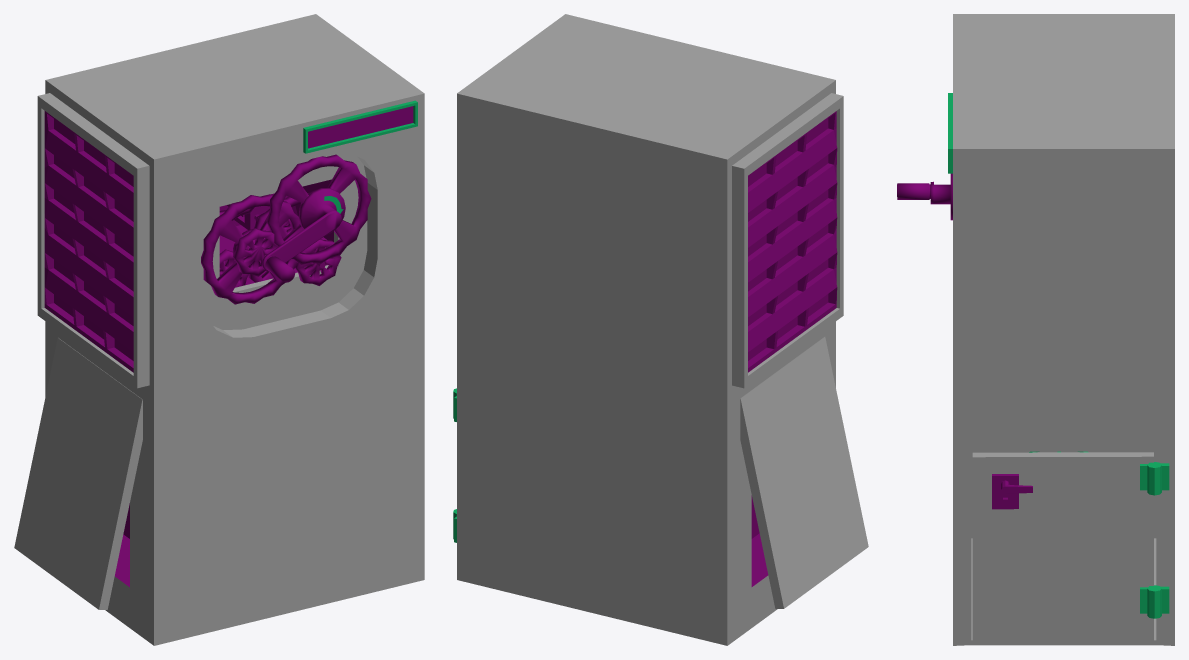
The model's file is generator_full.fbx.
The picture shows the model from 3 angles, left to right: view 1: azimuth 30°, elevation 25°; view 2: azimuth 150°, elevation 25°; view 3: azimuth 270°, elevation 25°; orthographic projection. The views are drawn at different scales.
Visible parts, largest first — view 1: Cube.008, Cube.012, Plane.022, Cylinder.008, Cylinder.009, Cube.010, Cylinder.003, Cylinder.007, Cylinder.002; view 2: Cube.008, Cube.012, Plane.022; view 3: Cube.008, Cube.018, Cylinder.003, Cube.013, Cylinder.015, Cylinder.016, Cube.010.
Boxes of the visible parts, <box> form: Cube.008: <box>45,14,424,645</box>; Cube.012: <box>37,93,149,388</box>; Plane.022: <box>14,338,142,609</box>; Cylinder.008: <box>266,154,371,264</box>; Cylinder.009: <box>201,194,301,304</box>; Cube.010: <box>303,100,417,153</box>; Cylinder.003: <box>262,187,345,282</box>; Cylinder.007: <box>233,228,278,276</box>; Cylinder.002: <box>295,239,341,285</box>; Cube.008: <box>457,14,835,645</box>; Cube.012: <box>732,93,843,388</box>; Plane.022: <box>740,337,868,608</box>; Cube.008: <box>953,14,1174,645</box>; Cube.018: <box>972,452,1153,641</box>; Cylinder.003: <box>897,173,952,220</box>; Cube.013: <box>992,474,1018,509</box>; Cylinder.015: <box>1147,462,1161,495</box>; Cylinder.016: <box>1147,585,1161,618</box>; Cube.010: <box>948,93,952,173</box>.
Size of the model in its own units: 120 by 169 by 85.1.
